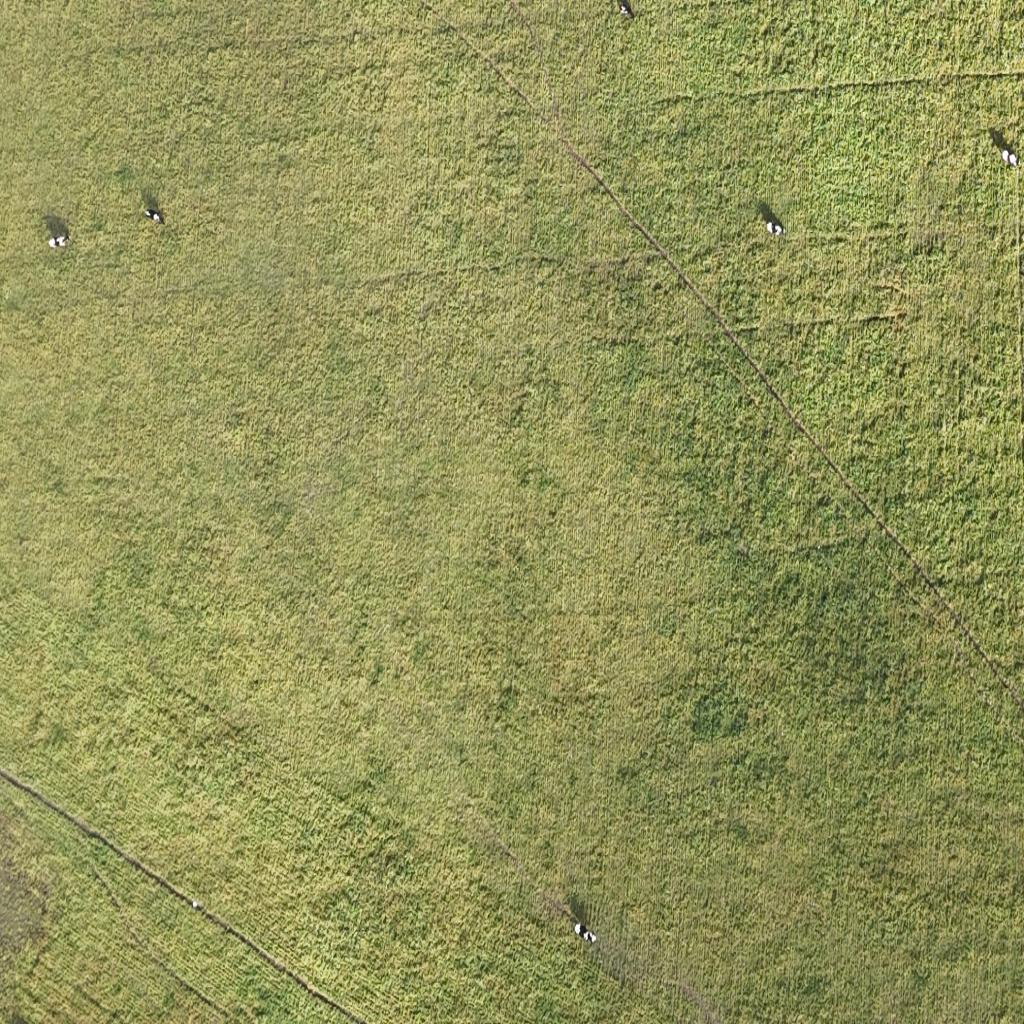cow: (574, 920, 596, 946), (616, 1, 632, 21), (144, 208, 163, 224), (49, 234, 69, 248), (1002, 149, 1017, 167), (766, 220, 782, 236)
